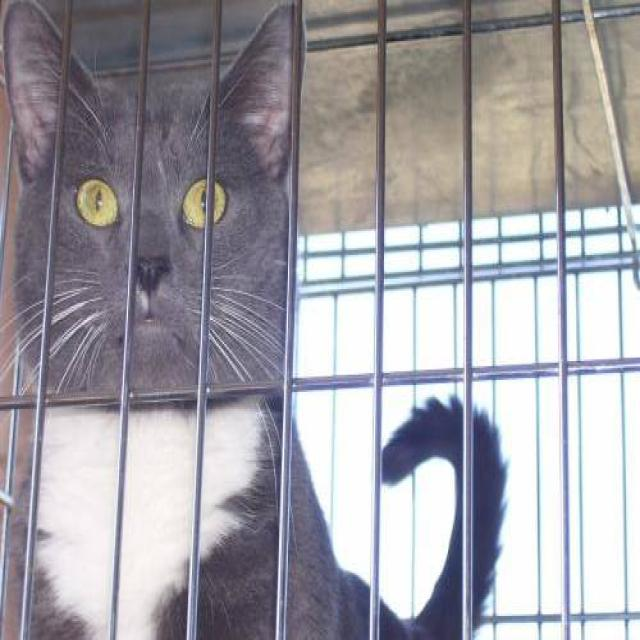cat: (0, 0, 509, 638)
